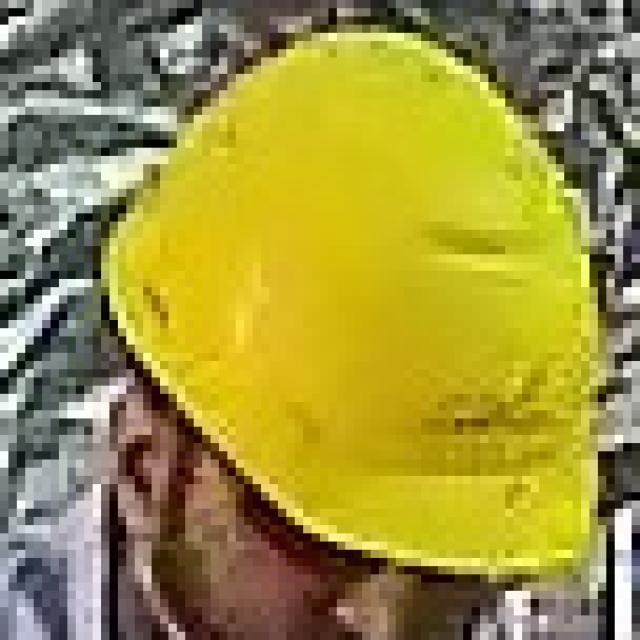yellow helmet: (106, 36, 601, 581)
